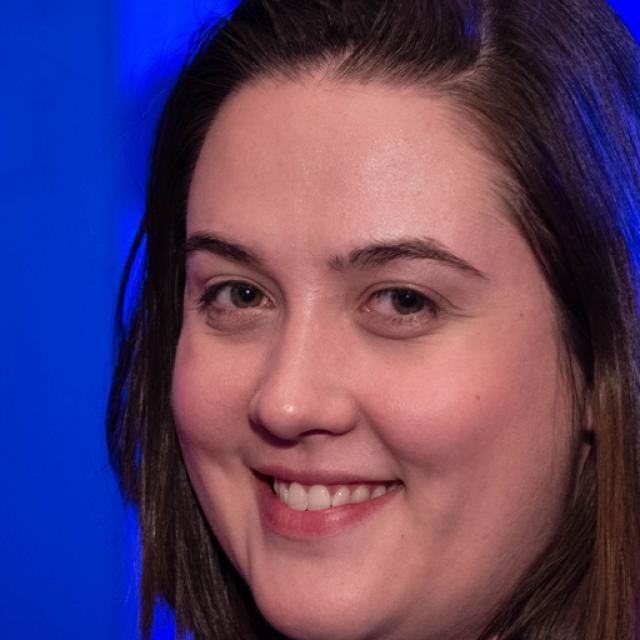happy: (167, 65, 568, 636)
